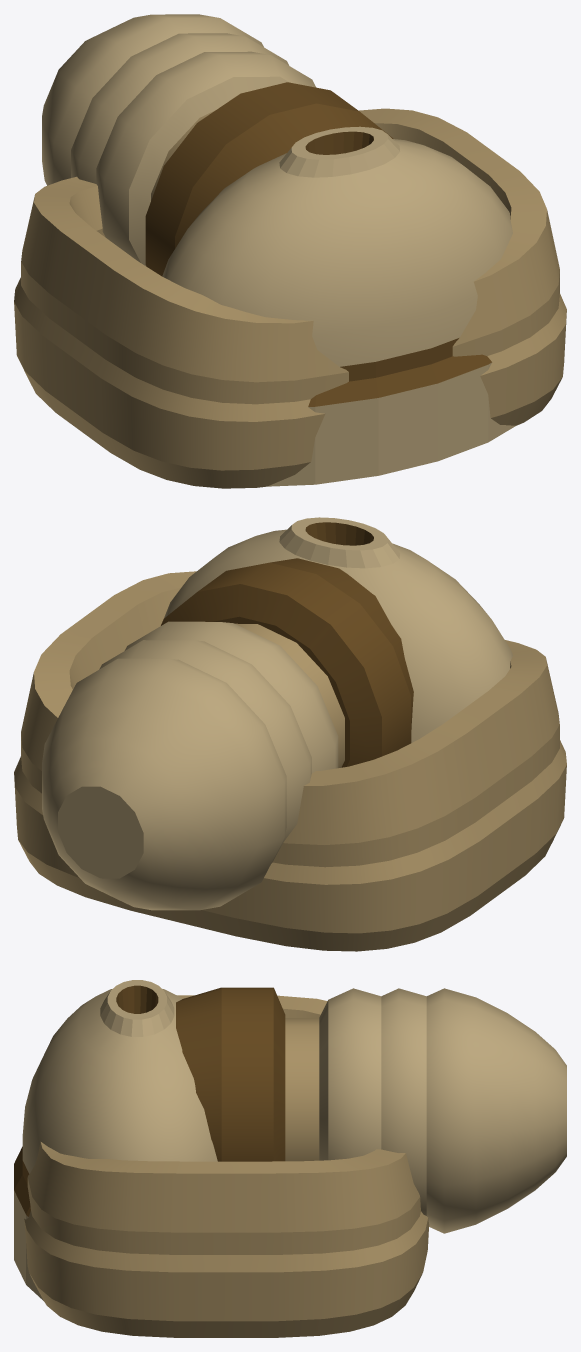
Rendered from atom-bombs.glb.
3 renders of one model, top to bottom at view 1: azimuth 30°, elevation 25°; view 2: azimuth 150°, elevation 25°; view 3: azimuth 270°, elevation 25°, orthographic. The views are drawn at different scales.
Visible parts, largest first — view 1: atom-bombs, atom-bombs-bomb-203, atom-bombs-bomb-165, atom-bombs-bomb-184; view 2: atom-bombs, atom-bombs-bomb-165, atom-bombs-bomb-184, atom-bombs-bomb-203; view 3: atom-bombs, atom-bombs-bomb-165, atom-bombs-bomb-184, atom-bombs-bomb-203.
Boxes of the visible parts, left/top/right/bottom form: atom-bombs: left=14, top=82, right=566, bottom=488; atom-bombs-bomb-203: left=96, top=51, right=316, bottom=265; atom-bombs-bomb-165: left=42, top=14, right=263, bottom=193; atom-bombs-bomb-184: left=71, top=33, right=289, bottom=200; atom-bombs: left=14, top=517, right=566, bottom=951; atom-bombs-bomb-165: left=42, top=623, right=344, bottom=910; atom-bombs-bomb-184: left=99, top=624, right=341, bottom=863; atom-bombs-bomb-203: left=124, top=621, right=338, bottom=772; atom-bombs: left=14, top=980, right=429, bottom=1337; atom-bombs-bomb-165: left=285, top=988, right=566, bottom=1233; atom-bombs-bomb-184: left=285, top=988, right=426, bottom=1215; atom-bombs-bomb-203: left=285, top=988, right=381, bottom=1160.
Size of the model in its own units: 0.831 by 0.5083 by 1.01.
